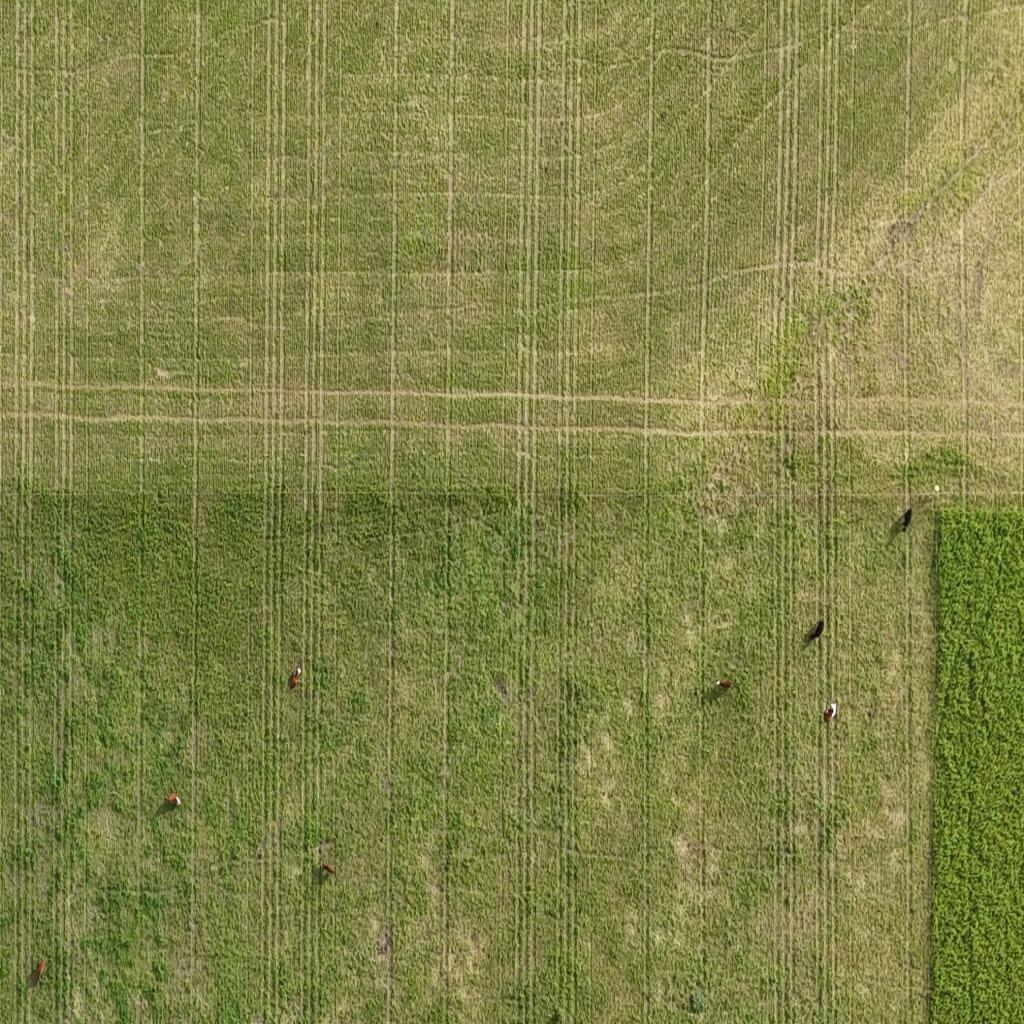cow: (30, 956, 48, 988), (804, 620, 824, 645), (289, 662, 303, 690), (824, 700, 838, 725), (319, 858, 335, 878), (166, 789, 182, 807), (900, 509, 912, 533), (716, 676, 732, 690)
